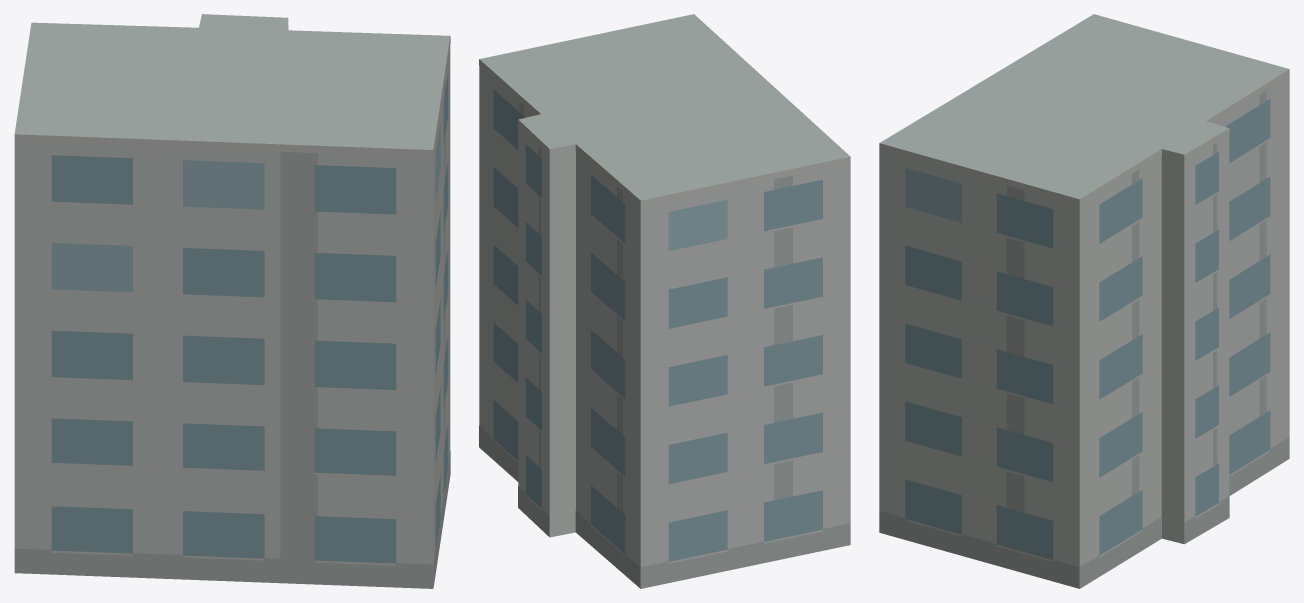
Rendered from survey-upis-32630922.glb.
The picture shows the model from 3 angles, left to right: view 1: azimuth 30°, elevation 25°; view 2: azimuth 150°, elevation 25°; view 3: azimuth 270°, elevation 25°; orthographic projection. The views are drawn at different scales.
Parts seen in each view (by area): view 1: survey-upis-32630922.tmp; view 2: survey-upis-32630922.tmp; view 3: survey-upis-32630922.tmp.
Part boxes in pixels (left/top/right/bottom): survey-upis-32630922.tmp: left=14, top=14, right=450, bottom=588; survey-upis-32630922.tmp: left=479, top=14, right=850, bottom=588; survey-upis-32630922.tmp: left=879, top=14, right=1289, bottom=588.
Bounding box in the file's own units: 14.34 × 14.05 × 13.42.
